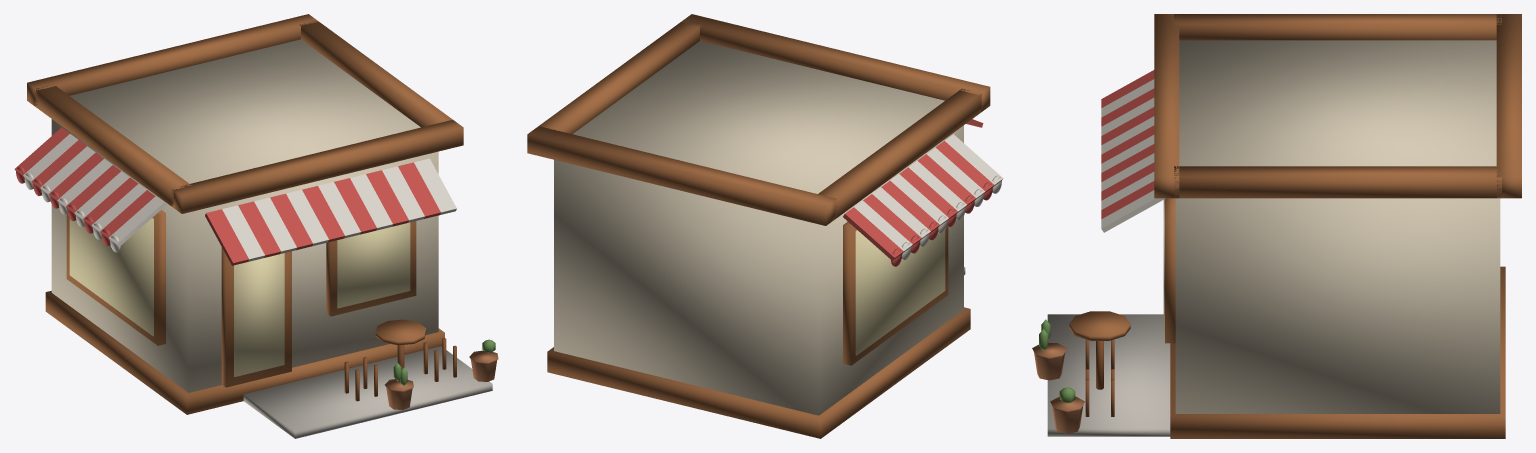
Rendered from mystery.glb.
3 views of the same model, side by side, from view 1: azimuth 30°, elevation 25°; view 2: azimuth 150°, elevation 25°; view 3: azimuth 270°, elevation 25° (orthographic). The views are drawn at different scales.
Visible parts, largest first — view 1: mystery; view 2: mystery; view 3: mystery.
Part boxes in pixels (x1,y1,x2,y2): mystery: (14, 14, 498, 438); mystery: (527, 14, 1003, 438); mystery: (1032, 14, 1521, 438).
Bounding box in the file's own units: 2.43 × 1.64 × 2.72.
